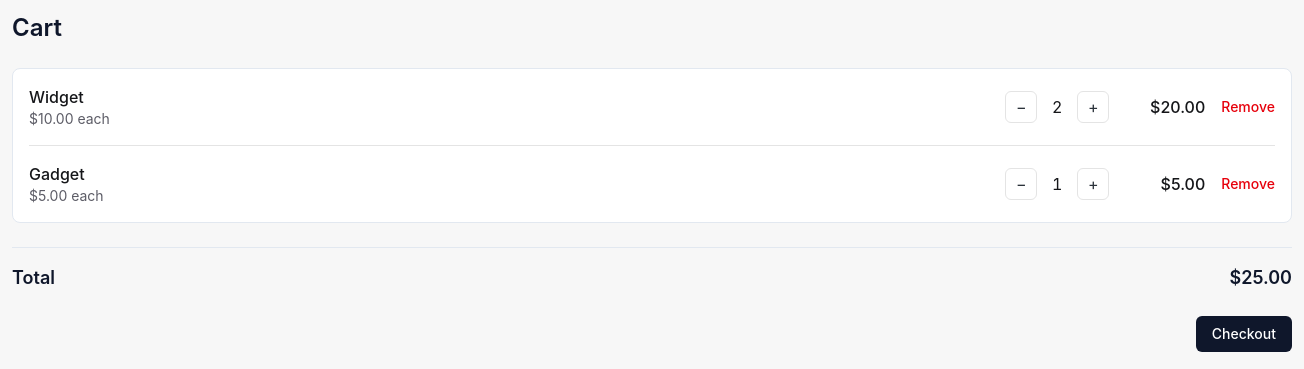
Test: CartPage › shows the total from the server response after a quantity change, not local arithmetic
The width and height of the screenshot is (1304, 369).
Click the button named "Increase quantity of Widget": (1093, 107) [1077,91,1109,123]
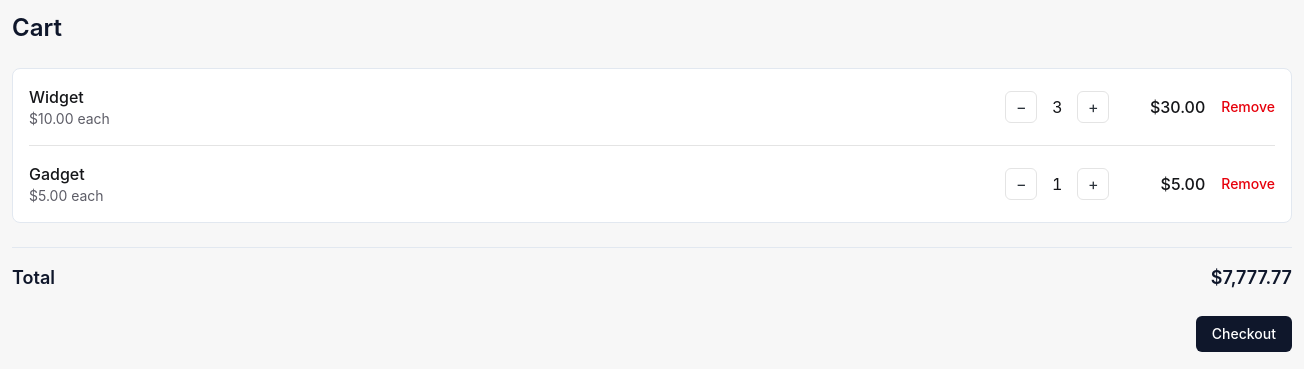
Expected: the text with test id "cart-total" reads "$7,777.77", [1211,267,1292,288]
